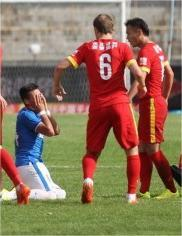bending: (7, 84, 71, 209)
up: (67, 11, 141, 209), (124, 16, 180, 201)
